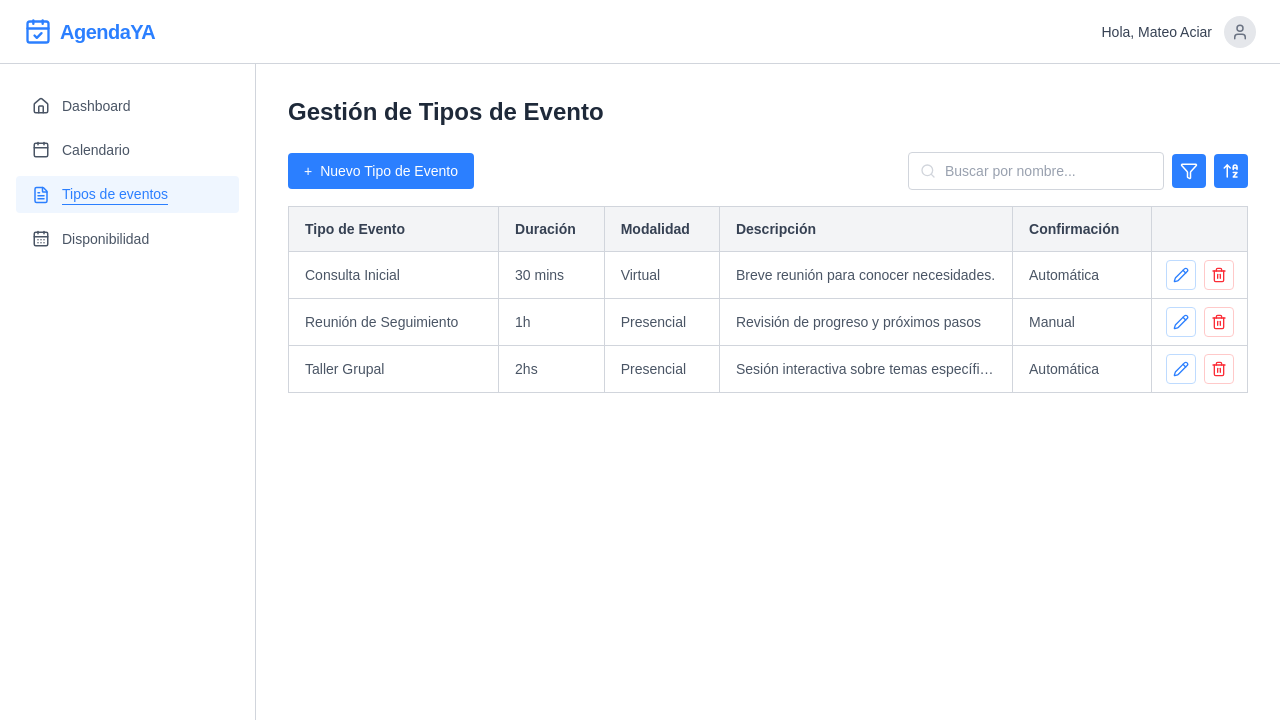
AgendaYA - Módulo 03: Tipos de Evento - Eliminación con Deshacer › Debe permitir eliminar un tipo de evento y restaurarlo inmediatamente con el botón Deshacer
Expected: the heading "Gestión de Tipos de Evento" is shown, [288, 98, 604, 125]
abrir modal de eliminación y confirmar
Click the 1st button with test id "btn-delete-event" at (1219, 275), box [1204, 260, 1234, 290]
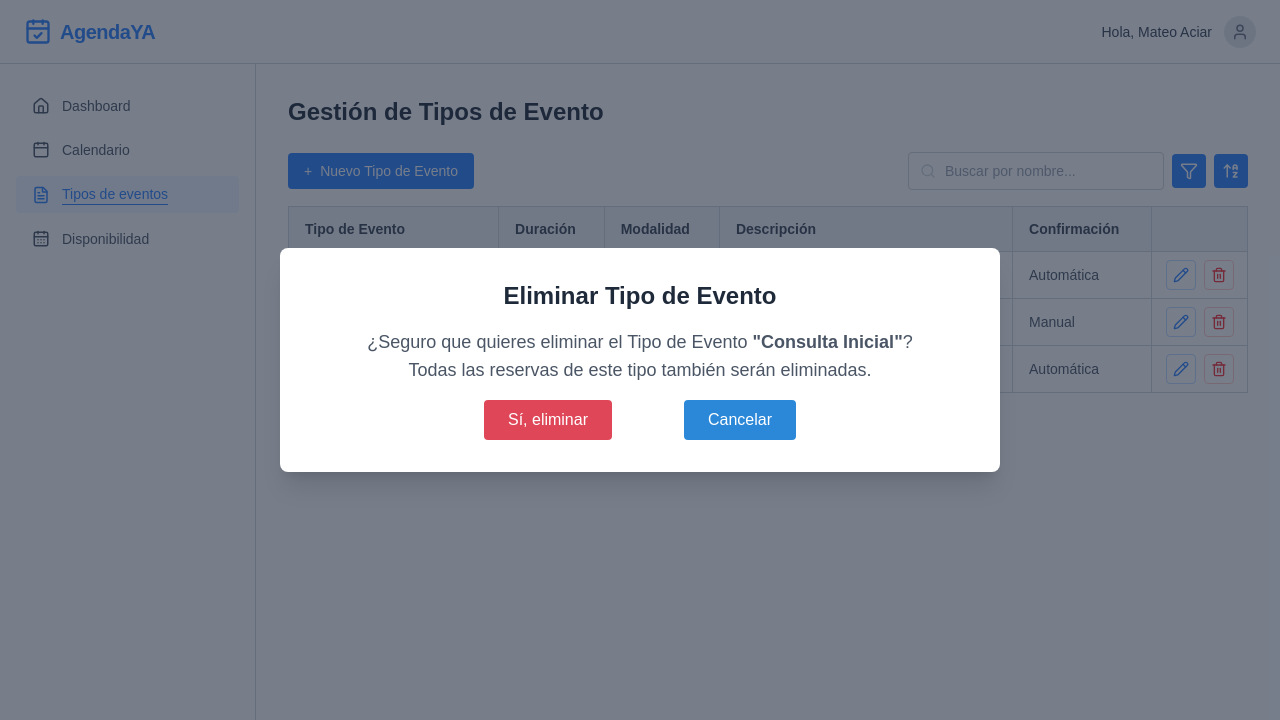
Result: the element with test id "modal-delete-event-type" is shown at [280, 248, 1000, 472]
Click the button with test id "btn-confirm-delete" at (548, 420), box [484, 400, 612, 440]
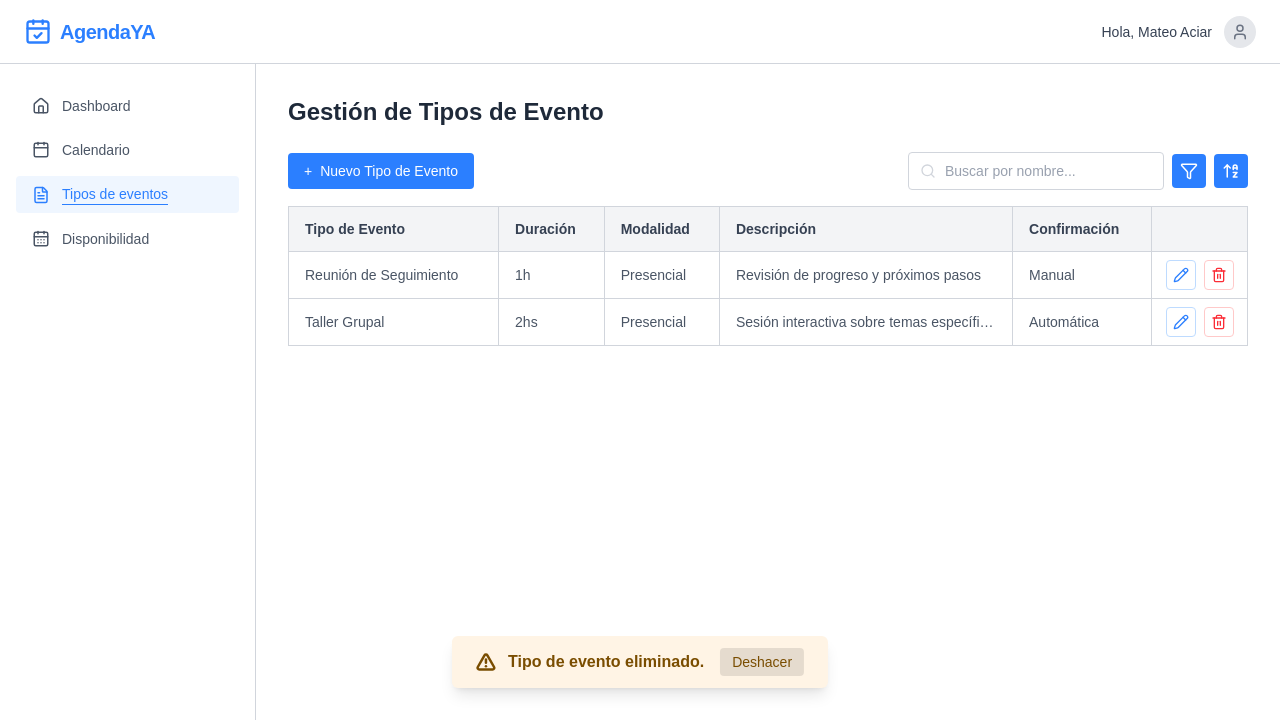
Result: the element with test id "modal-delete-event-type" is gone
Result: the element with test id "toast-notification" shows "Tipo de evento eliminado." at [452, 636, 828, 688]
Act 2: presionar el botón de Deshacer en la notificación
Click the button with test id "btn-toast-undo" at (762, 662), box [720, 648, 804, 676]
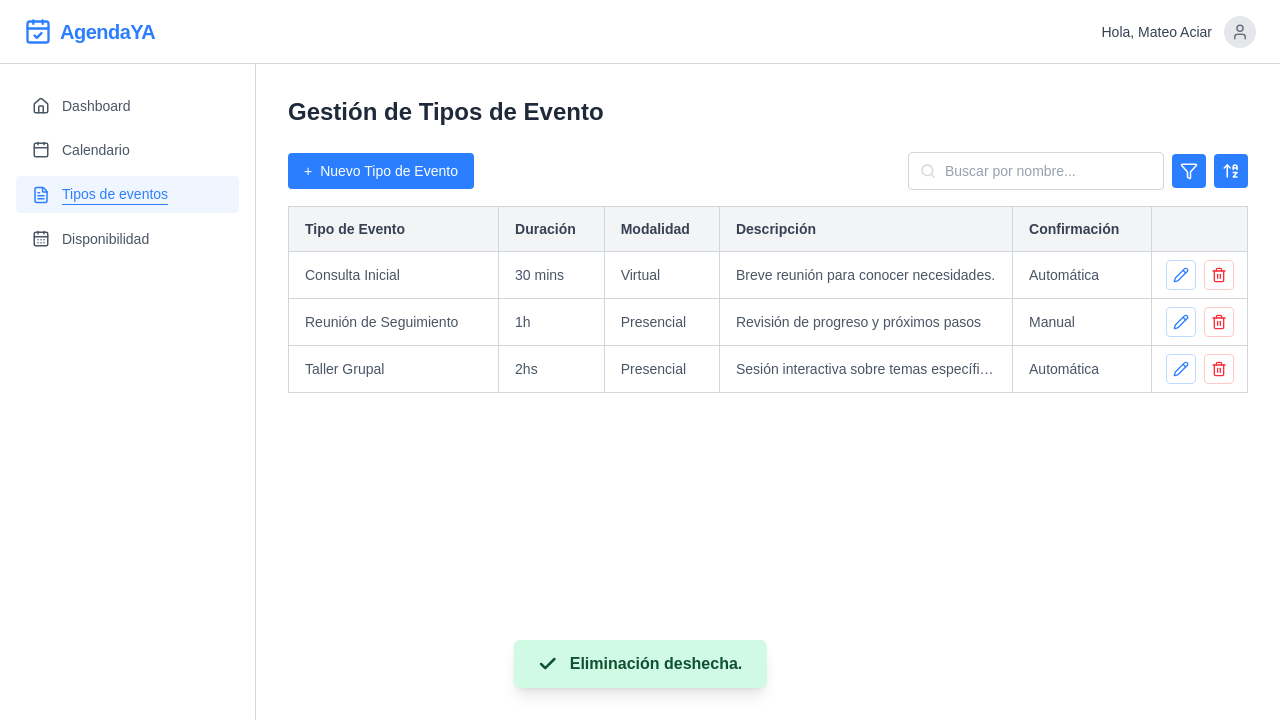
Result: the element with test id "toast-notification" reads "Eliminación deshecha." at [514, 640, 767, 688]
